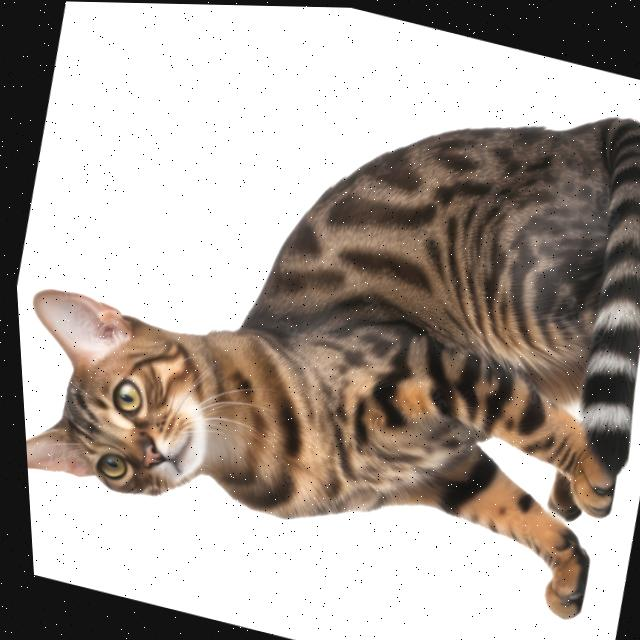Toyger: (0, 0, 640, 628)
